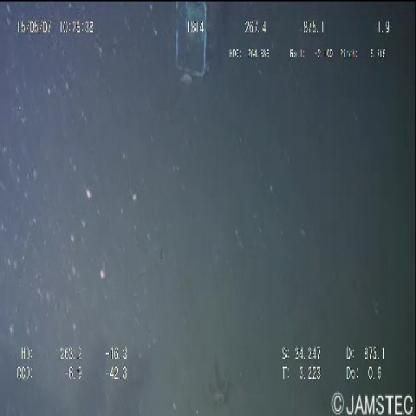Rác: (173, 0, 209, 79)
